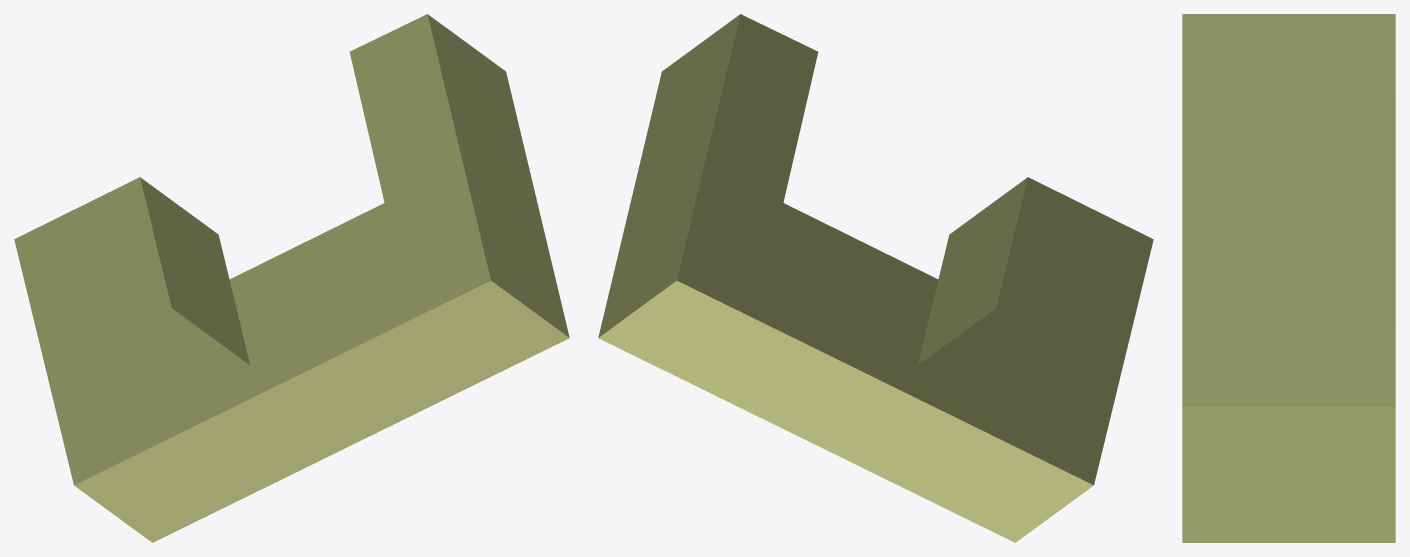
The picture shows the model from 3 angles, left to right: view 1: azimuth 30°, elevation 25°; view 2: azimuth 150°, elevation 25°; view 3: azimuth 270°, elevation 25°; orthographic projection. The views are drawn at different scales.
Visible parts, largest first — view 1: 0_3_2_3; view 2: 0_3_2_3; view 3: 0_3_2_3.
Part boxes in pixels (x1=…): 0_3_2_3: x1=14, y1=14, x2=569, y2=542; 0_3_2_3: x1=598, y1=14, x2=1153, y2=542; 0_3_2_3: x1=1182, y1=14, x2=1395, y2=542.
Size of the model in its own units: 21 by 16.21 by 6.
